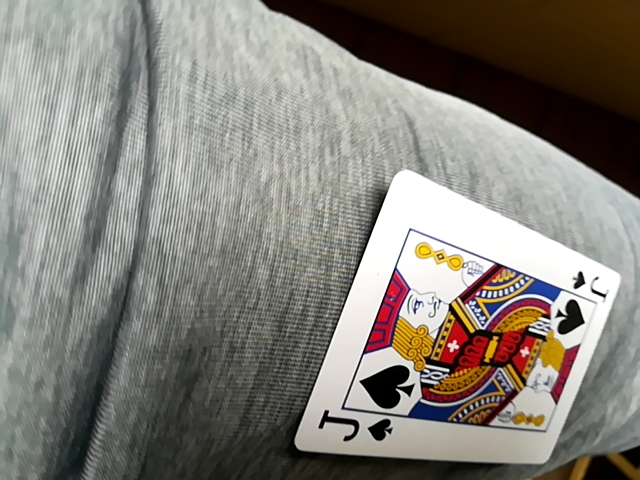ht j: (300, 169, 622, 473)
